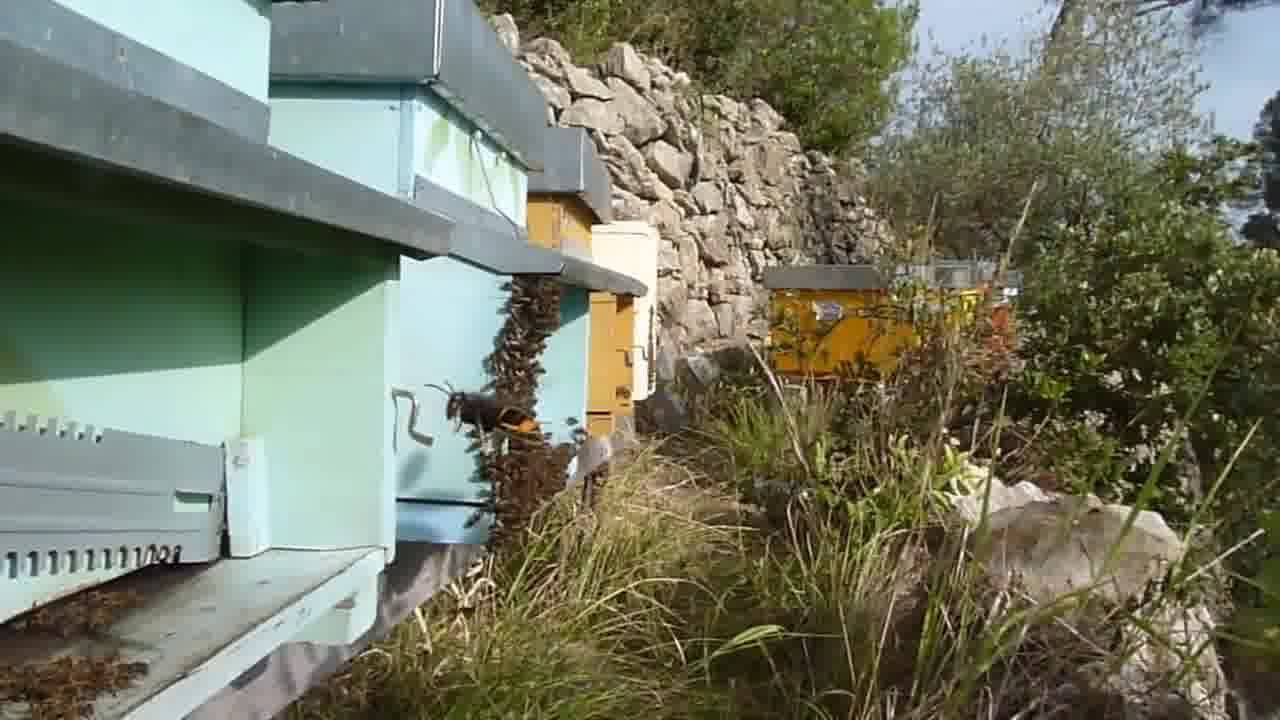bee: (1, 658, 159, 720), (480, 454, 565, 531), (13, 594, 130, 638), (498, 279, 562, 335), (483, 333, 553, 382)
hornet: (438, 382, 531, 449)
